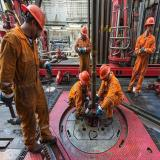Helmet: (21, 4, 46, 32), (79, 70, 90, 86), (100, 64, 110, 79), (143, 16, 155, 27), (81, 26, 88, 36)
